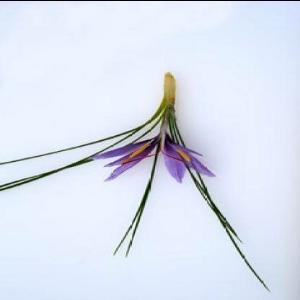Saffron: (93, 119, 215, 188)
